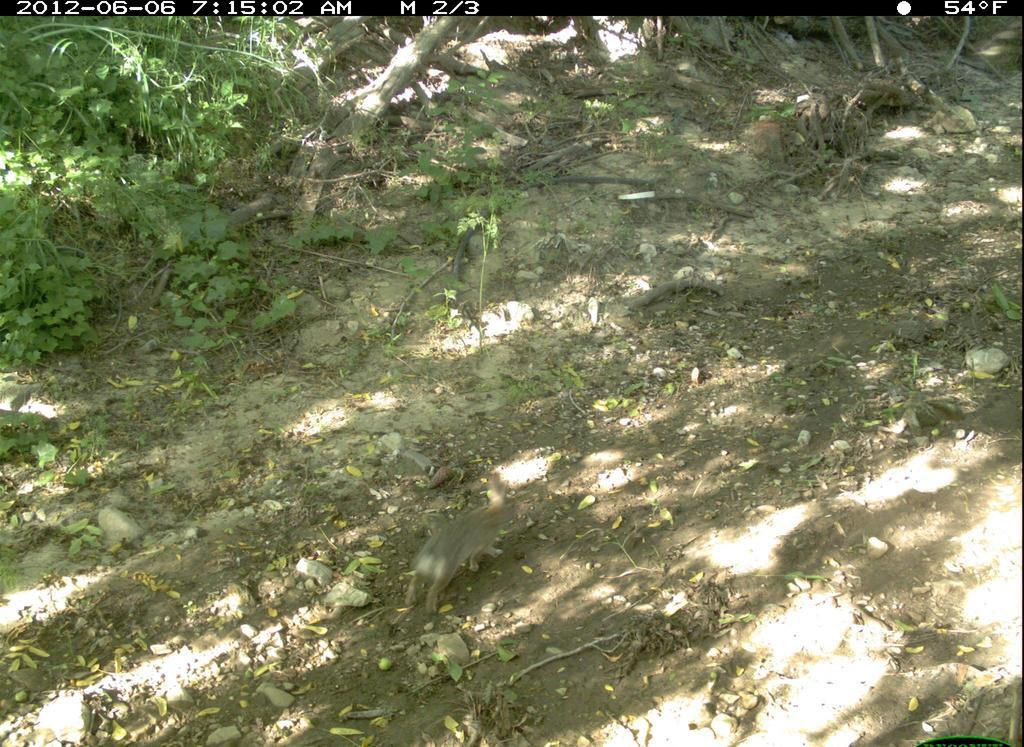rabbit: (411, 468, 547, 617)
